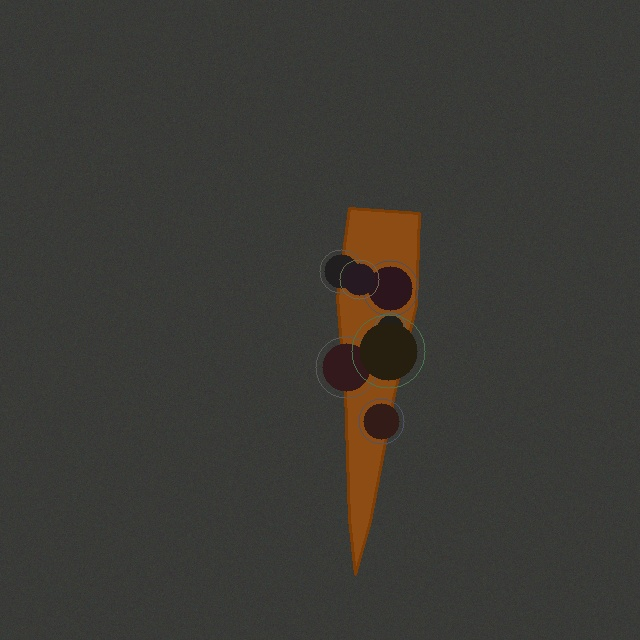Rotten_Carrot: (329, 200, 427, 582)
